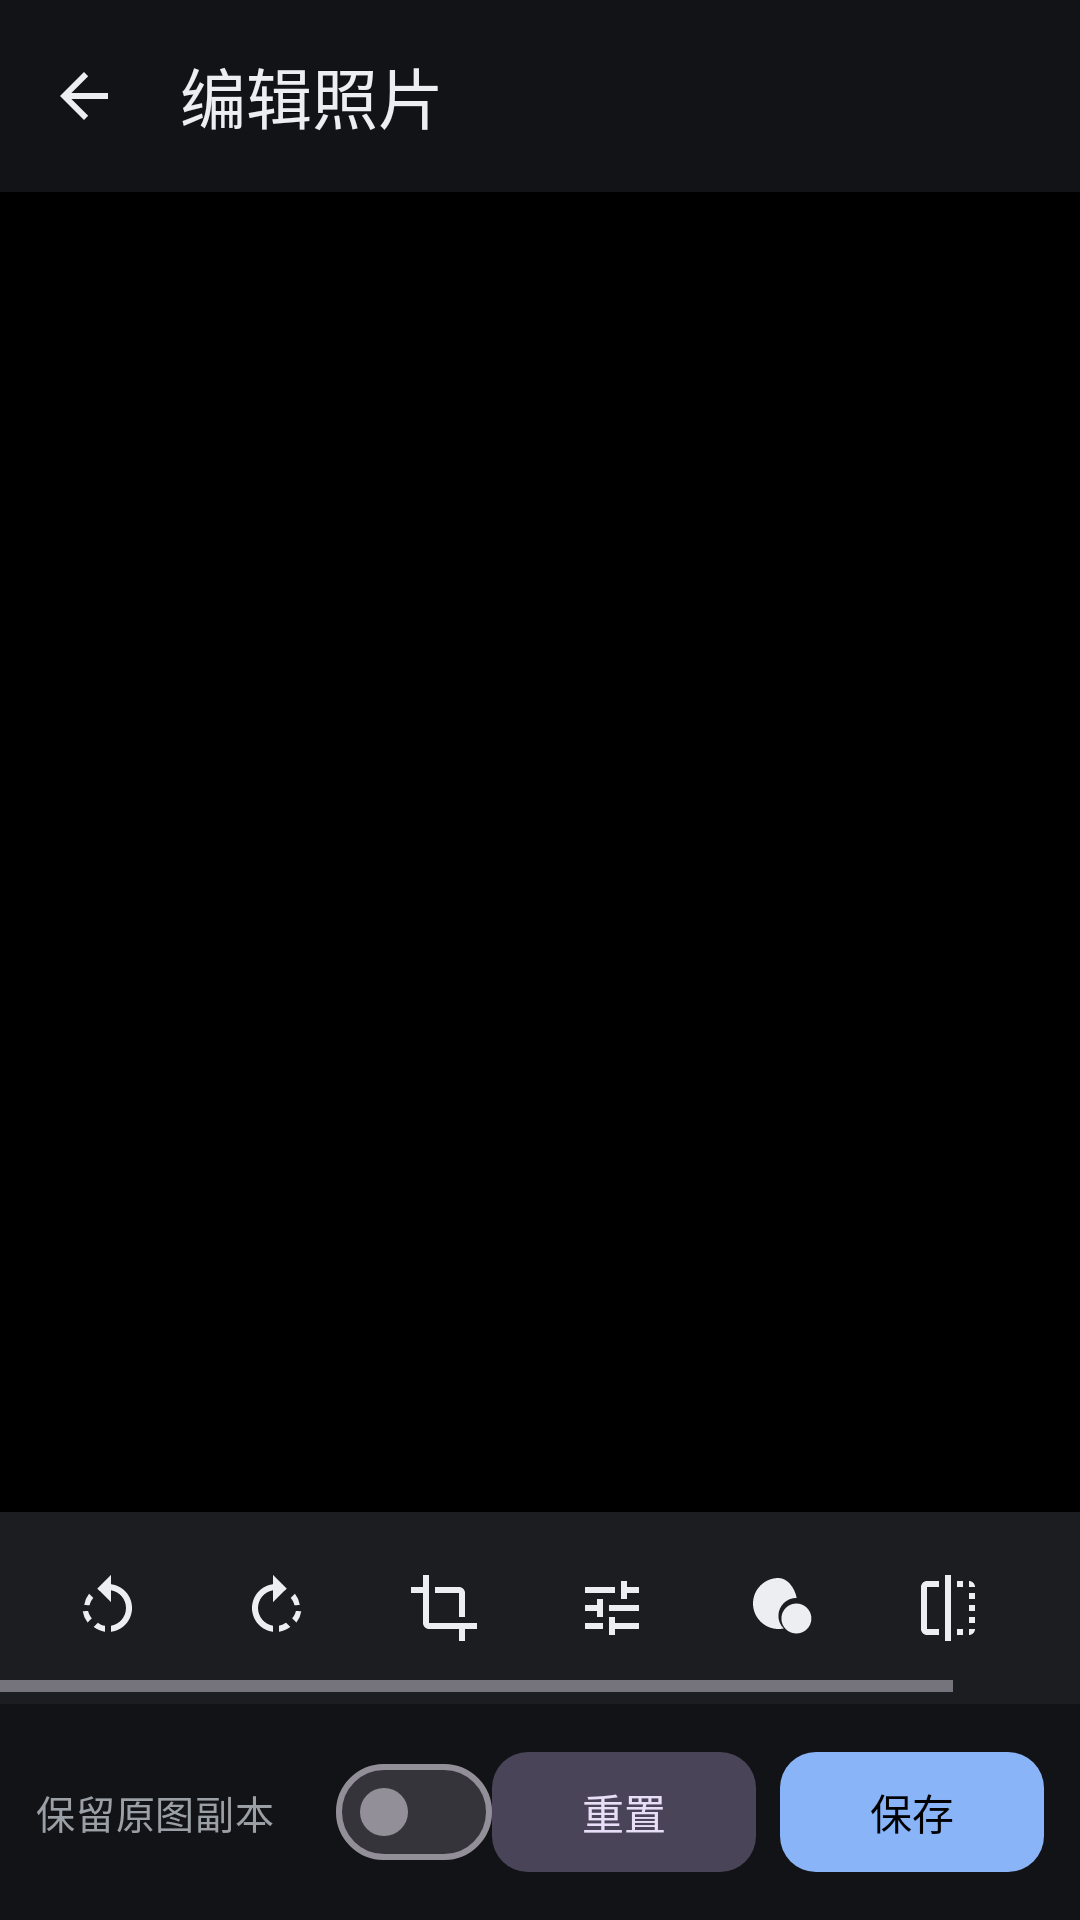

Screen size 1080*1920. Icon name, then its box in pixels as (x1=x1, y1=y1, x2=x2, y2=y2):
水平翻转: (x1=921, y1=1575, x2=975, y2=1641)
滤镜: (x1=753, y1=1578, x2=812, y2=1634)
